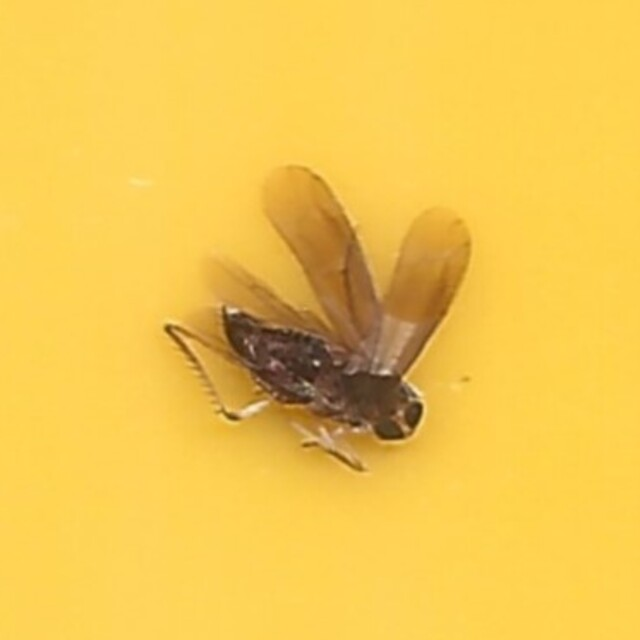Hemiptera: (172, 174, 468, 466)
